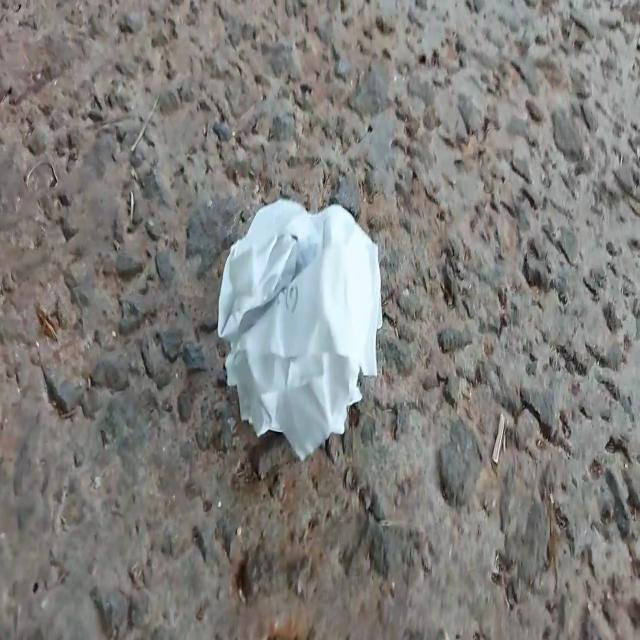paper: (191, 172, 415, 466)
